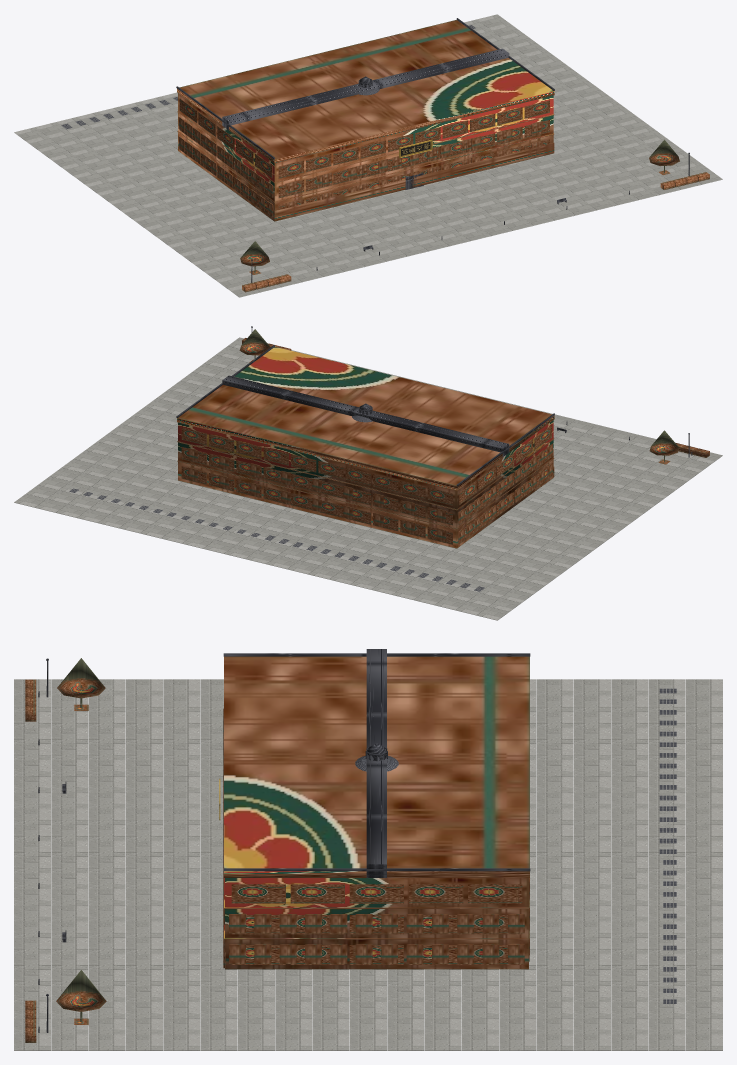
The picture shows the model from 3 angles, top to bottom: view 1: azimuth 30°, elevation 25°; view 2: azimuth 150°, elevation 25°; view 3: azimuth 270°, elevation 25°; orthographic projection. The views are drawn at different scales.
Visible parts, largest first — view 1: 11680_01_06238_032_01__plinth_ground_base, 11680_01_06238_032_02__mass_body_facade, 11680_01_06238_032_03__roof_metal_ornament, 11680_01_06238_032_06__landscape_greenery, 11680_01_06238_032_05__window_sash_glass; view 2: 11680_01_06238_032_01__plinth_ground_base, 11680_01_06238_032_02__mass_body_facade, 11680_01_06238_032_03__roof_metal_ornament, 11680_01_06238_032_06__landscape_greenery, 11680_01_06238_032_03__roof_deck_structure; view 3: 11680_01_06238_032_01__plinth_ground_base, 11680_01_06238_032_02__mass_body_facade, 11680_01_06238_032_03__roof_metal_ornament, 11680_01_06238_032_06__landscape_greenery, 11680_01_06238_032_03__roof_deck_structure.
Part boxes in pixels (left/top/right/bottom): 11680_01_06238_032_01__plinth_ground_base: left=14, top=14, right=722, bottom=297; 11680_01_06238_032_02__mass_body_facade: left=177, top=20, right=554, bottom=221; 11680_01_06238_032_03__roof_metal_ornament: left=176, top=18, right=554, bottom=159; 11680_01_06238_032_06__landscape_greenery: left=240, top=139, right=709, bottom=292; 11680_01_06238_032_05__window_sash_glass: left=287, top=121, right=541, bottom=213; 11680_01_06238_032_01__plinth_ground_base: left=14, top=337, right=722, bottom=620; 11680_01_06238_032_02__mass_body_facade: left=177, top=347, right=554, bottom=548; 11680_01_06238_032_03__roof_metal_ornament: left=176, top=345, right=554, bottom=486; 11680_01_06238_032_06__landscape_greenery: left=239, top=329, right=709, bottom=464; 11680_01_06238_032_03__roof_deck_structure: left=69, top=415, right=484, bottom=591; 11680_01_06238_032_01__plinth_ground_base: left=14, top=679, right=722, bottom=1050; 11680_01_06238_032_02__mass_body_facade: left=223, top=656, right=529, bottom=969; 11680_01_06238_032_03__roof_metal_ornament: left=223, top=649, right=530, bottom=877; 11680_01_06238_032_06__landscape_greenery: left=25, top=658, right=106, bottom=1042; 11680_01_06238_032_03__roof_deck_structure: left=355, top=688, right=676, bottom=1003.
Bounding box in the file's own units: 104 × 15.97 × 83.95.
7 materials, 7 textured.
